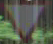Give way: (1, 2, 49, 40)
